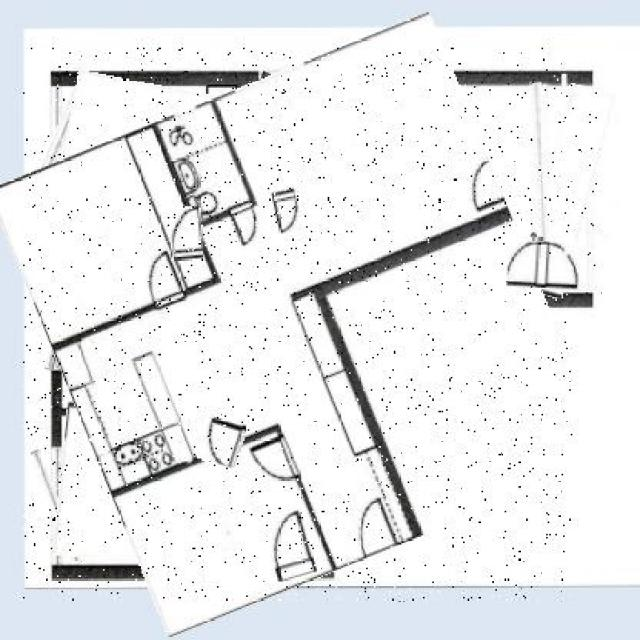door: (23, 48, 572, 602), (55, 78, 242, 257), (57, 406, 240, 568), (530, 84, 602, 298), (229, 75, 309, 194)
window: (508, 242, 580, 288), (266, 512, 312, 580), (200, 417, 245, 466), (172, 206, 203, 260), (274, 188, 300, 232)
zone: (38, 88, 74, 203), (41, 448, 70, 563), (532, 83, 548, 240), (326, 60, 400, 92), (49, 297, 65, 371), (260, 69, 282, 86)
